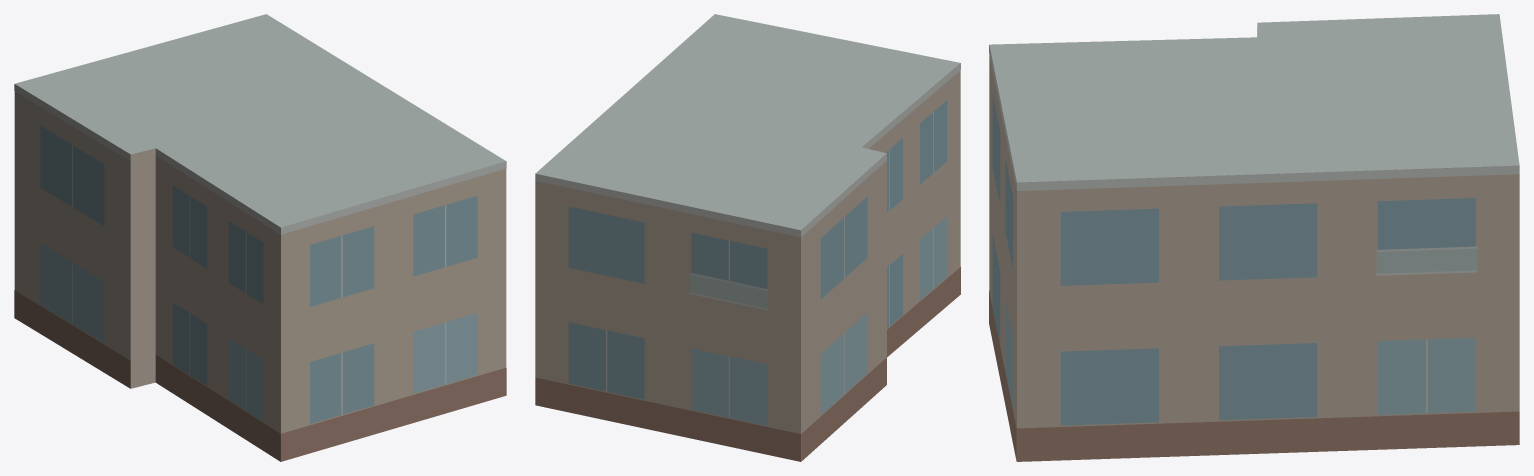
File: survey-upis-32758998.glb
The picture shows the model from 3 angles, left to right: view 1: azimuth 30°, elevation 25°; view 2: azimuth 150°, elevation 25°; view 3: azimuth 270°, elevation 25°; orthographic projection. The views are drawn at different scales.
Parts seen in each view (by area): view 1: survey-upis-32758998.tmp; view 2: survey-upis-32758998.tmp; view 3: survey-upis-32758998.tmp.
Part boxes in pixels (x1,y1,x2,y2): survey-upis-32758998.tmp: [14, 14, 506, 461]; survey-upis-32758998.tmp: [535, 14, 960, 461]; survey-upis-32758998.tmp: [989, 14, 1519, 461].
Bounding box in the file's own units: 10.23 × 7.9 × 13.6.
